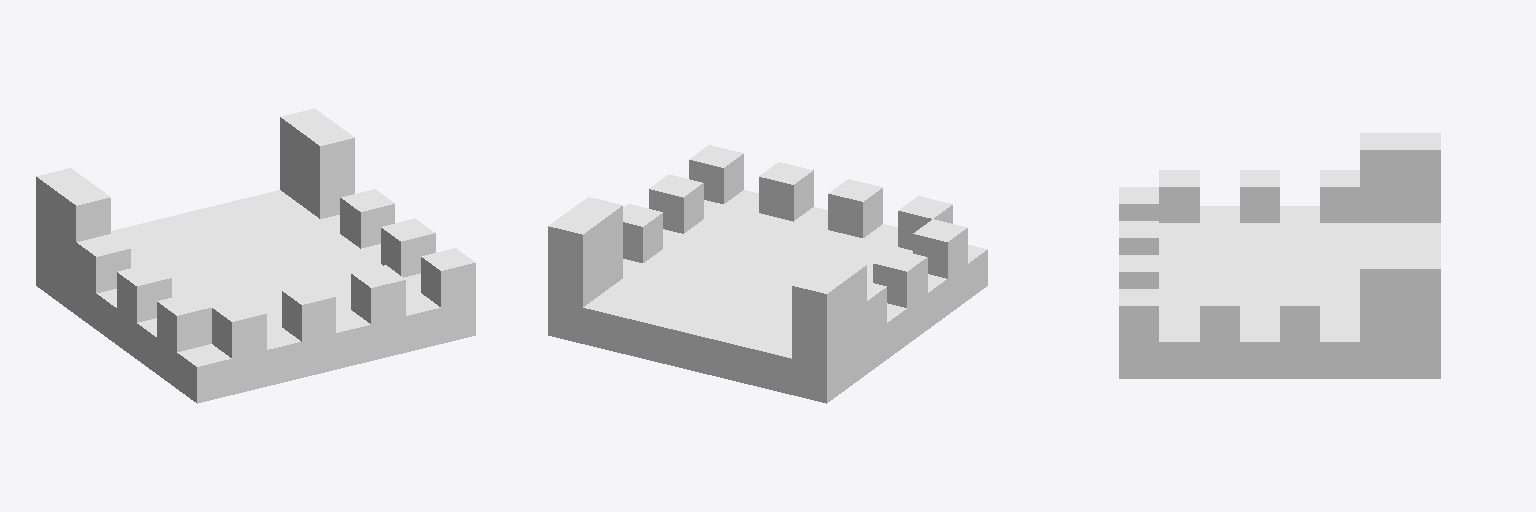
Rendered from lower_jaw.obj.
The picture shows the model from 3 angles: view 1: azimuth 30°, elevation 25°; view 2: azimuth 150°, elevation 25°; view 3: azimuth 270°, elevation 25°; orthographic projection.
Visible parts, largest first — view 1: lower_jaw; view 2: lower_jaw; view 3: lower_jaw.
Boxes of the visible parts, <box> form: lower_jaw: <box>36,108,475,403</box>; lower_jaw: <box>548,145,987,403</box>; lower_jaw: <box>1119,133,1440,378</box>.
Bounding box in the file's own units: 8 × 3 × 8.